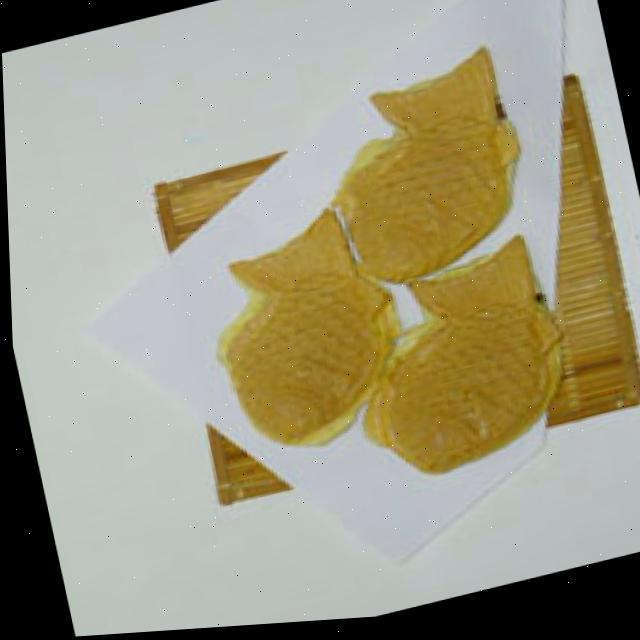熟制海鲜: (158, 46, 589, 523)
